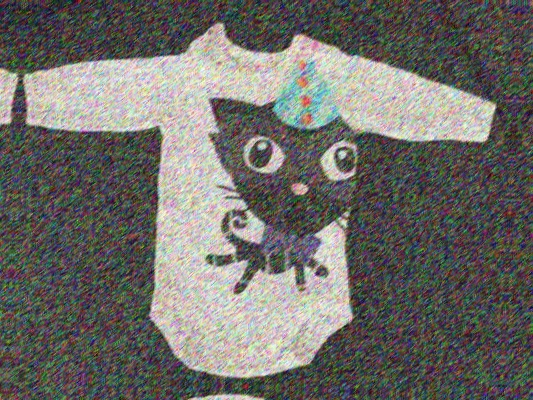Body: (16, 29, 502, 388), (0, 386, 485, 400), (0, 6, 14, 365), (519, 53, 533, 400)
